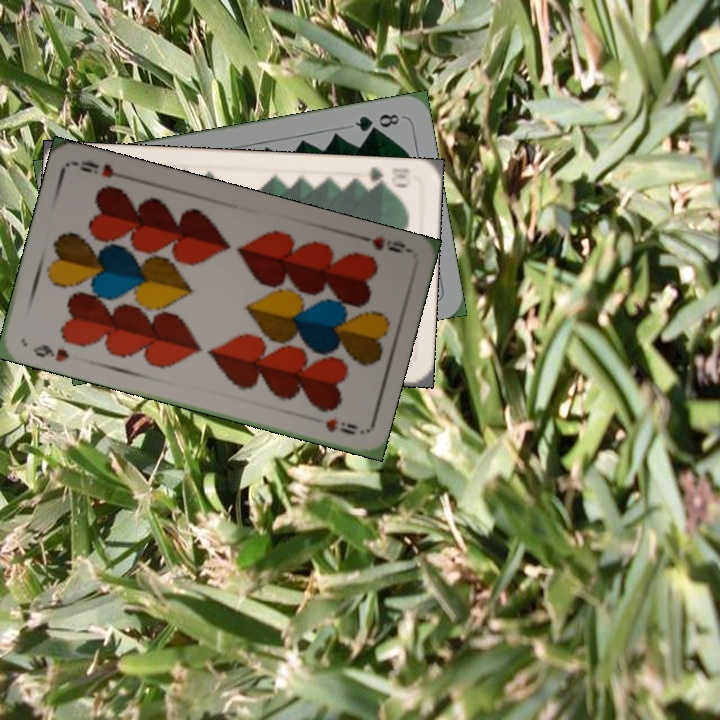G10: (357, 163, 413, 191)
G8: (351, 109, 402, 135)
H9: (353, 231, 412, 256), (29, 340, 72, 365)
